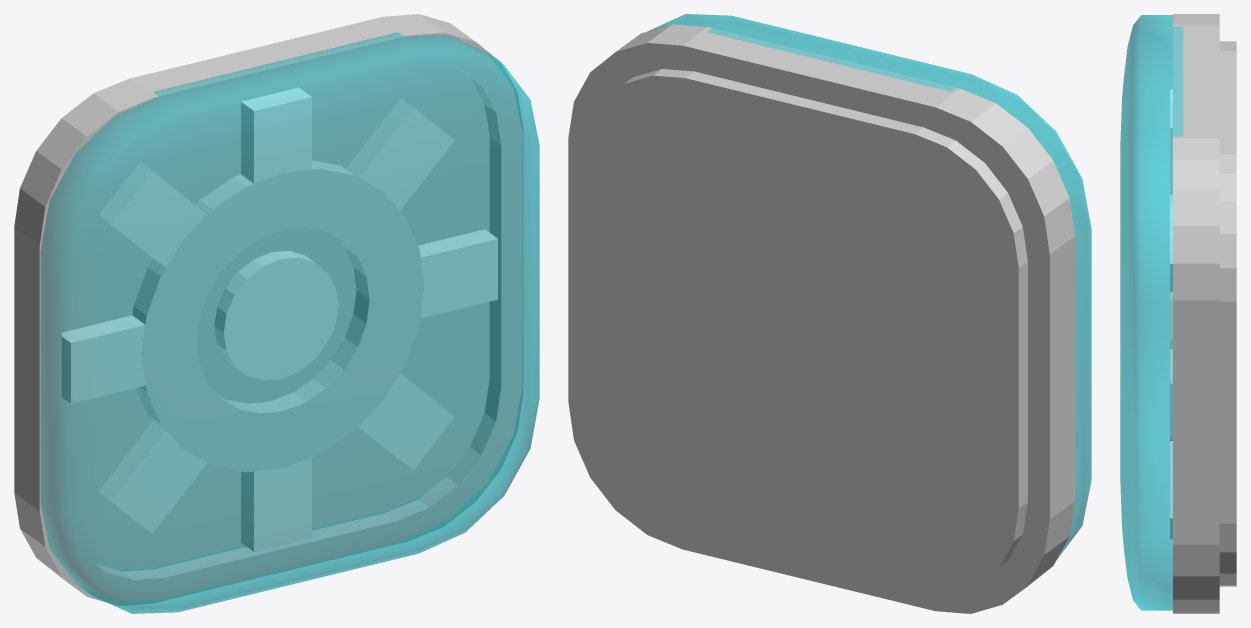
File: Settings 1.fbx
3 renders of one model, left to right at view 1: azimuth 30°, elevation 25°; view 2: azimuth 150°, elevation 25°; view 3: azimuth 270°, elevation 25°, orthographic. The views are drawn at different scales.
Parts seen in each view (by area): view 1: Cube, Cube.029, Cube.030, Cube.012, Cube.031, Cube.028, Cube.014, Cube.025, Cube.013, Cube.024, Cube.015, Cube.026 (+1 smaller); view 2: Cube.029, Cube.030, Cube; view 3: Cube, Cube.030, Cube.029, Cube.027, Cube.013, Cube.026, Cube.014, Cube.012.
Boxes of the visible parts, left/top/right/bottom form: Cube: left=41, top=32, right=539, bottom=613; Cube.029: left=61, top=59, right=489, bottom=571; Cube.030: left=14, top=14, right=522, bottom=605; Cube.012: left=132, top=160, right=424, bottom=472; Cube.031: left=214, top=251, right=338, bottom=380; Cube.028: left=99, top=421, right=206, bottom=533; Cube.014: left=346, top=98, right=454, bottom=210; Cube.025: left=61, top=315, right=145, bottom=403; Cube.013: left=241, top=87, right=311, bottom=183; Cube.024: left=99, top=162, right=206, bottom=267; Cube.015: left=241, top=457, right=311, bottom=551; Cube.026: left=418, top=229, right=497, bottom=317; Cube.029: left=581, top=69, right=1027, bottom=594; Cube.030: left=568, top=24, right=1075, bottom=613; Cube: left=648, top=14, right=1091, bottom=558; Cube: left=1120, top=15, right=1182, bottom=610; Cube.030: left=1173, top=14, right=1219, bottom=613; Cube.029: left=1219, top=41, right=1236, bottom=586; Cube.027: left=1170, top=441, right=1172, bottom=539; Cube.013: left=1170, top=102, right=1172, bottom=194; Cube.026: left=1170, top=349, right=1172, bottom=439; Cube.014: left=1170, top=206, right=1172, bottom=291; Cube.012: left=1170, top=194, right=1172, bottom=440.
Size of the model in its own units: 2.64 by 0.5981 by 2.65.
